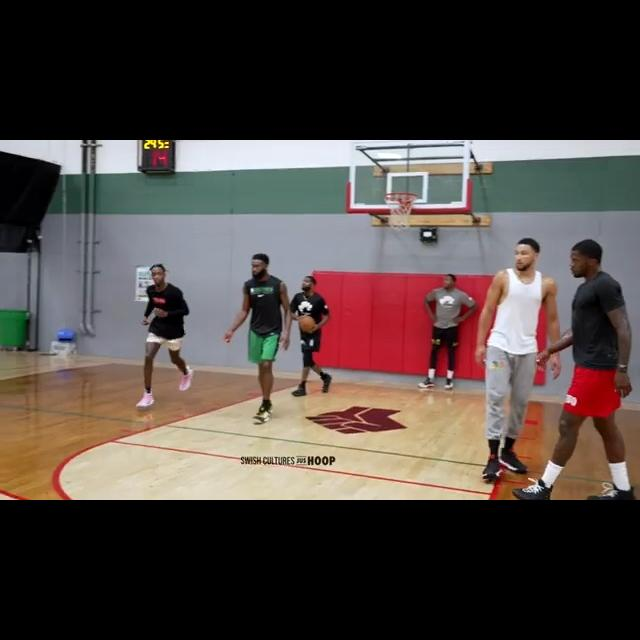basketball: (297, 314, 316, 333)
hoop: (384, 191, 418, 232)
